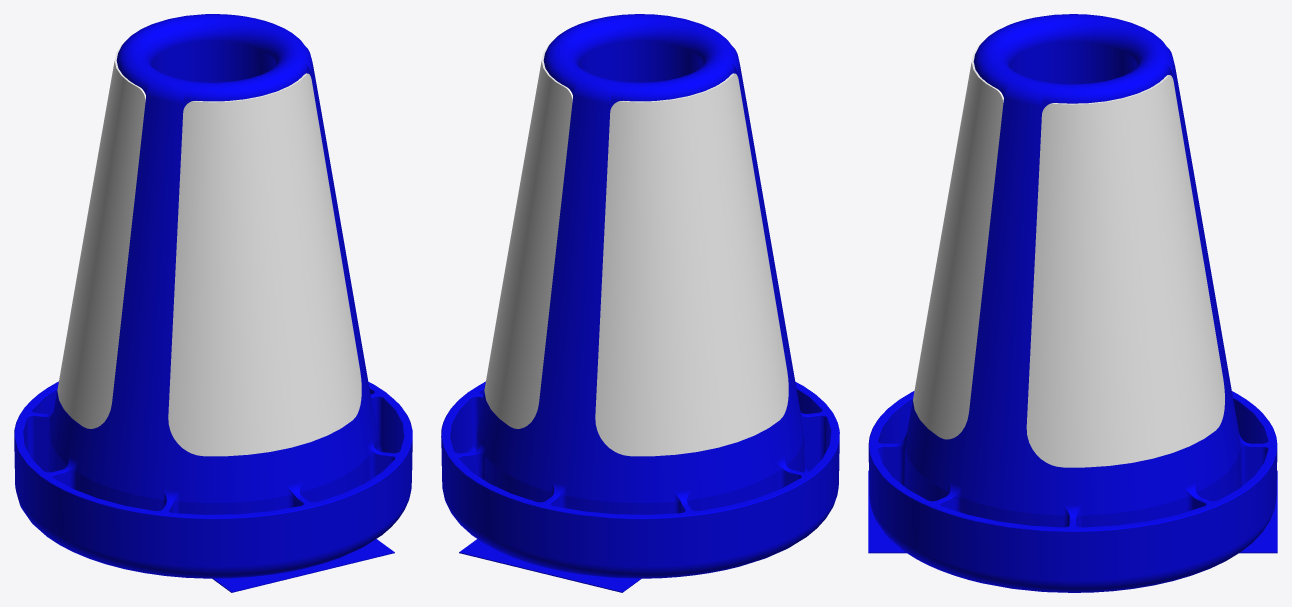
File: blue cone-sticker.fbx
3 views of the same model, side by side, from view 1: azimuth 30°, elevation 25°; view 2: azimuth 150°, elevation 25°; view 3: azimuth 270°, elevation 25° (orthographic). The views are drawn at different scales.
Parts seen in each view (by area): view 1: Body1 (×4); view 2: Body1 (×4); view 3: Body1 (×4).
Boxes of the visible parts, x1,y1,x2,y2 form: Body1 (×4): (14, 14, 412, 592); Body1 (×4): (441, 14, 839, 592); Body1 (×4): (868, 14, 1277, 592).
Size of the model in its own units: 4 by 5 by 4.
